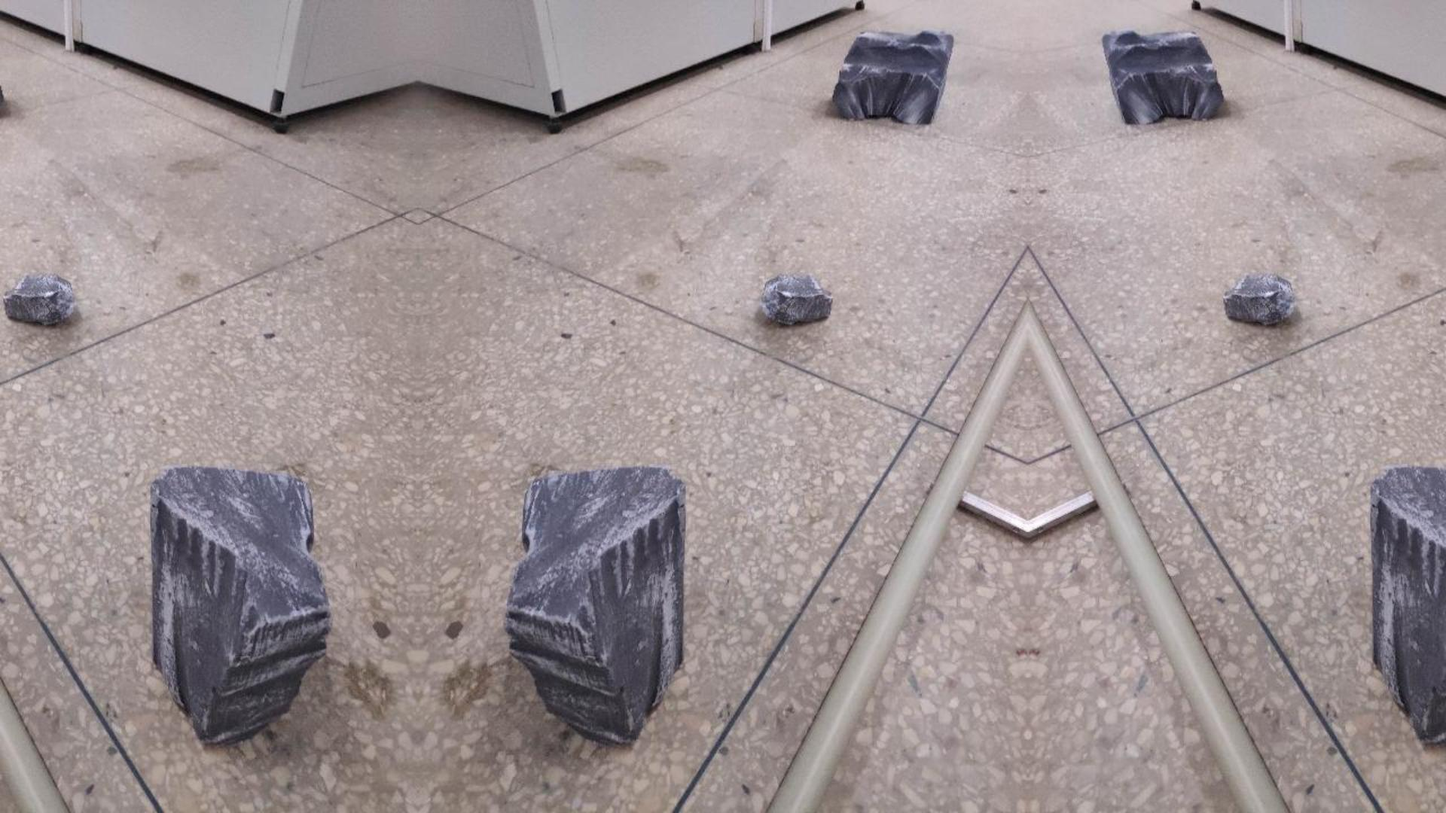rock: (151, 466, 330, 743), (505, 466, 683, 743), (1371, 466, 1445, 743), (1103, 29, 1223, 123), (833, 30, 952, 123), (1222, 273, 1293, 324), (761, 274, 831, 324), (5, 273, 72, 324), (0, 85, 6, 117)
